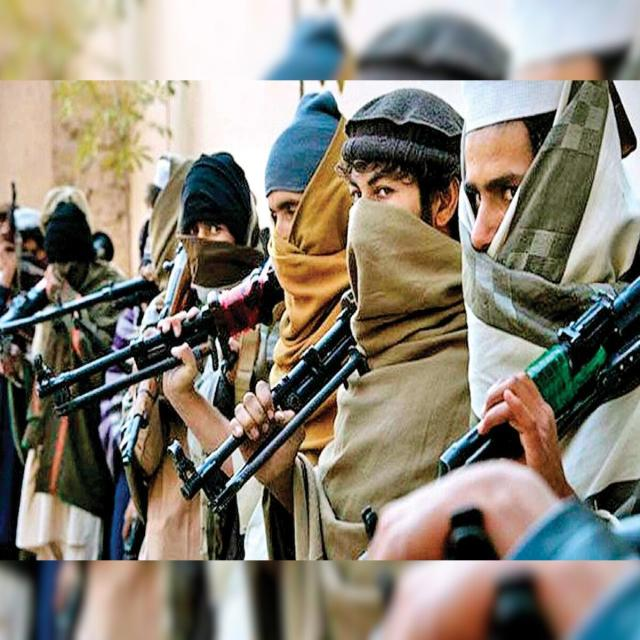Militant: (445, 85, 640, 560), (302, 95, 496, 545), (221, 85, 376, 540), (140, 127, 282, 556), (35, 177, 144, 538), (0, 175, 75, 548)
